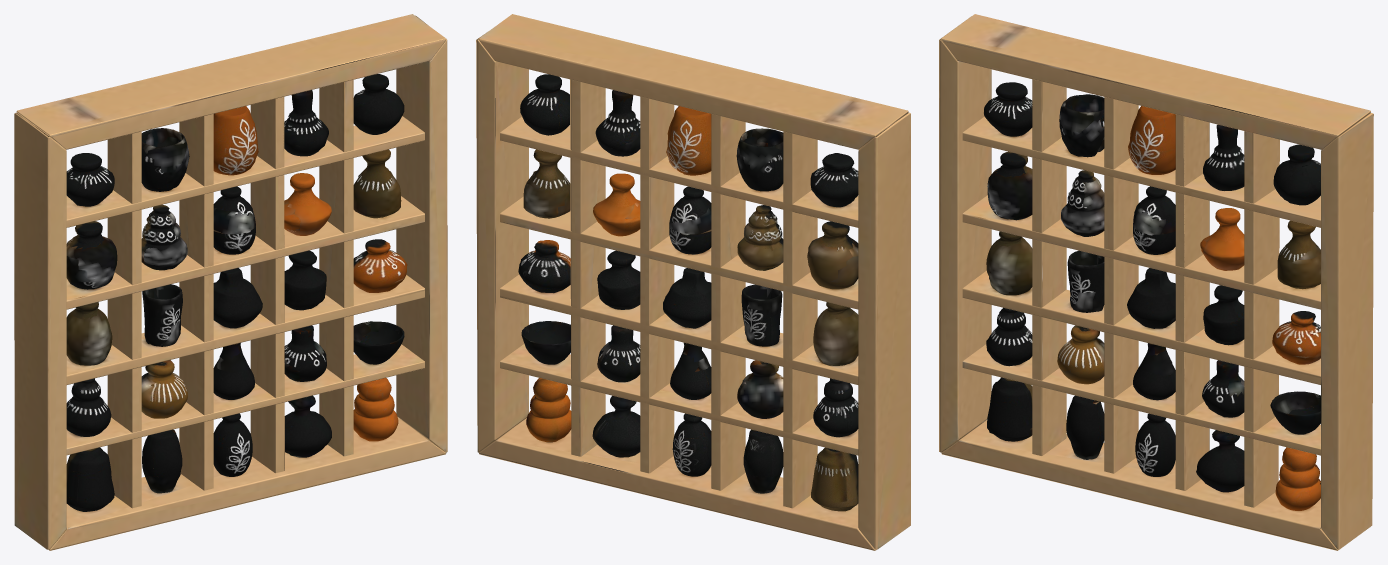
File: miniature-pottery.glb
3 renders of one model, left to right at view 1: azimuth 30°, elevation 25°; view 2: azimuth 150°, elevation 25°; view 3: azimuth 330°, elevation 25°, orthographic.
Visible parts, largest first — view 1: miniature-pottery; view 2: miniature-pottery; view 3: miniature-pottery.
Boxes of the visible parts, box(x1,y1,x2,y2) form: miniature-pottery: box(14, 14, 447, 550); miniature-pottery: box(476, 14, 910, 550); miniature-pottery: box(939, 14, 1373, 550).
Bounding box in the file's own units: 0.2625 × 0.26 × 0.0385.
1 material, 1 textured.
